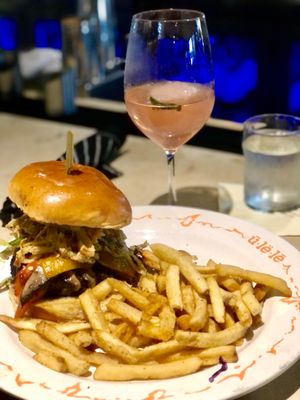pizza: (241, 113, 300, 213)
soup: (0, 159, 137, 317)
